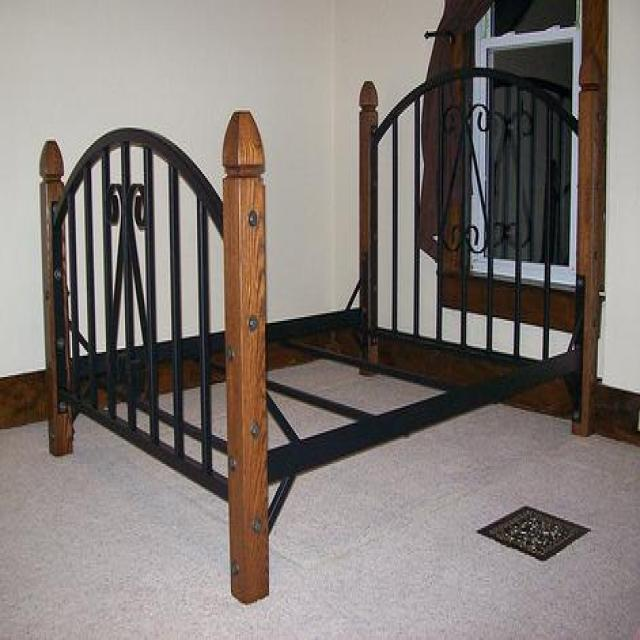bed: (39, 71, 610, 603)
